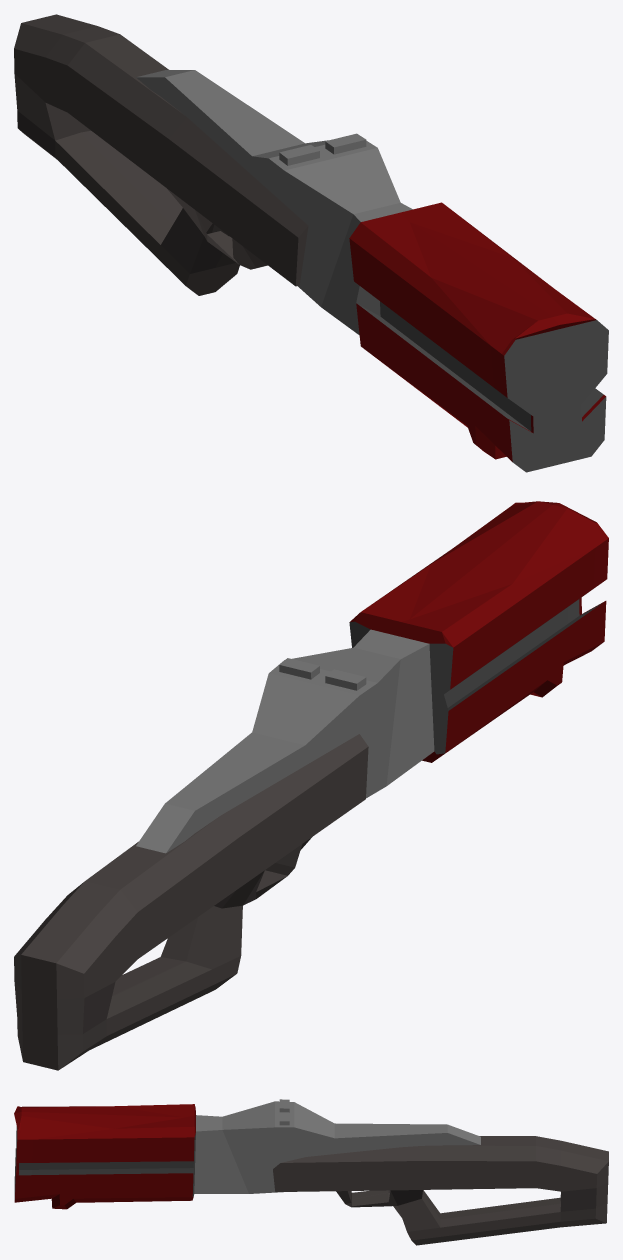
Rendered from gun.fbx.
3 views of the same model, one above another, from view 1: azimuth 30°, elevation 25°; view 2: azimuth 150°, elevation 25°; view 3: azimuth 270°, elevation 25° (orthographic). The views are drawn at different scales.
Parts seen in each view (by area): view 1: Cube.001, Cube; view 2: Cube.001, Cube; view 3: Cube.001, Cube.
Part boxes in pixels (bbox=[...]): Cube.001: bbox=[136, 70, 608, 472]; Cube: bbox=[14, 14, 308, 295]; Cube.001: bbox=[136, 501, 608, 853]; Cube: bbox=[14, 734, 368, 1070]; Cube.001: bbox=[14, 1099, 480, 1209]; Cube: bbox=[273, 1136, 608, 1245].
Size of the model in its own units: 90.31 by 192 by 778.
